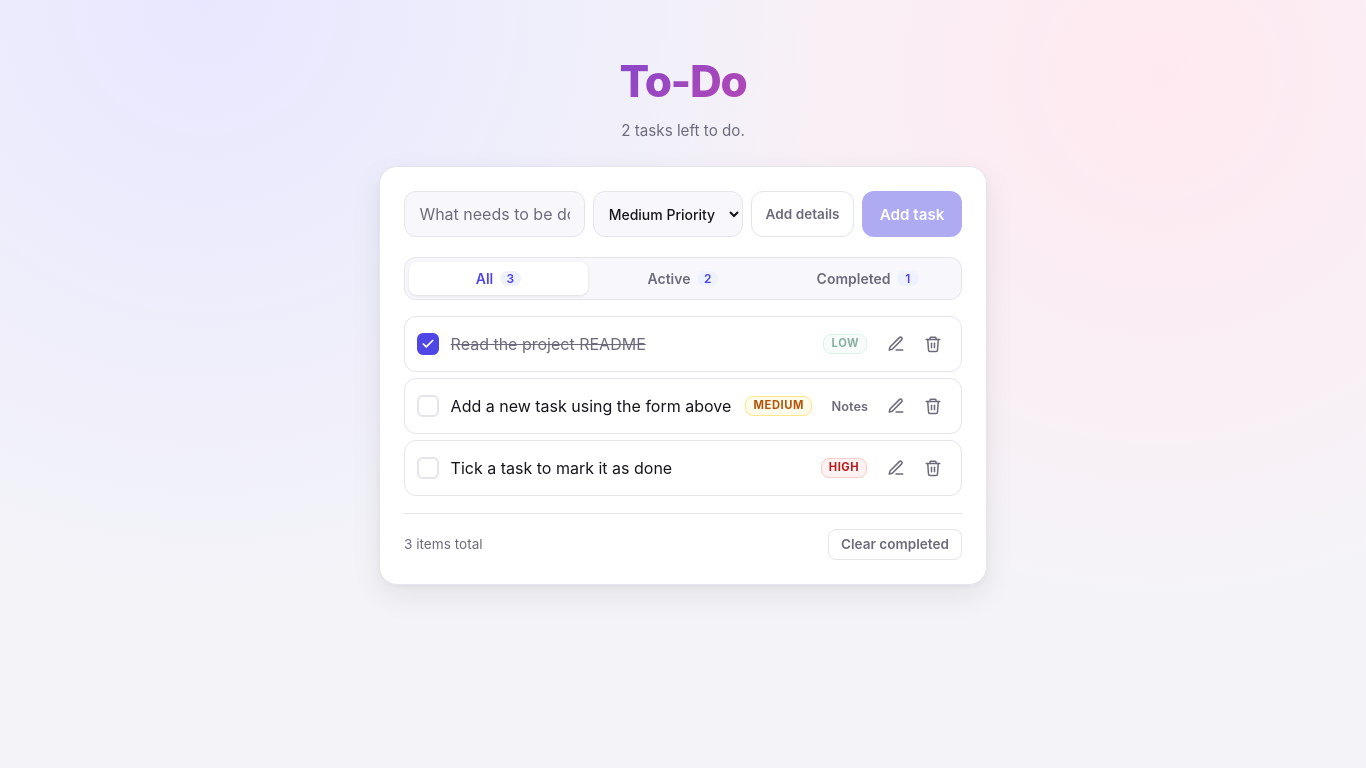
To-do app › dismisses the undo toast when clicking close
What coordinates should you click on to do the following:
click the button named "Delete task: Read the project README"
I would click on:
 (933, 344)
Its box is [916,328,949,361].
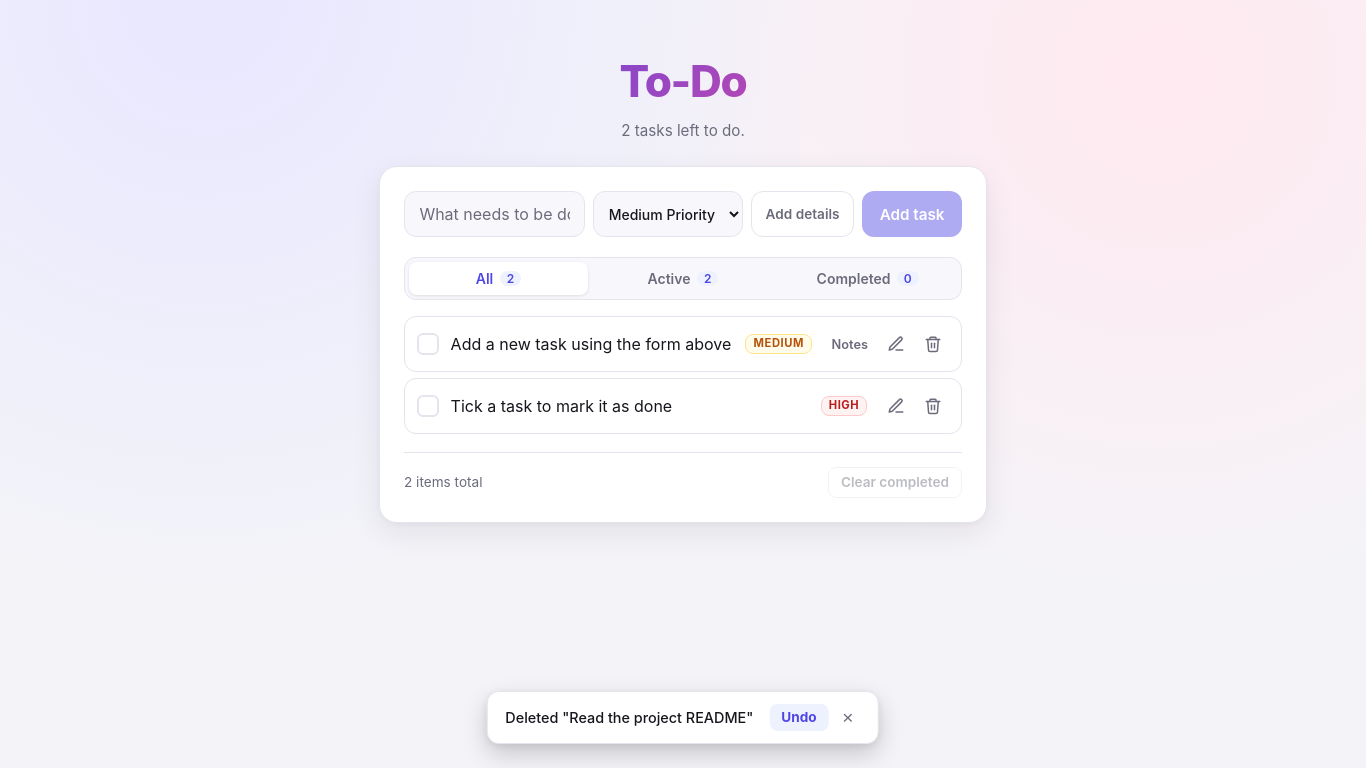
Expected: the message "Deleted \"Read the project README\" Undo ×" is shown, [487,691,879,744]
What coordinates should you click on to do the following:
click the button named "Dismiss notification"
I would click on:
 (848, 717)
Its box is [835,705,861,730].
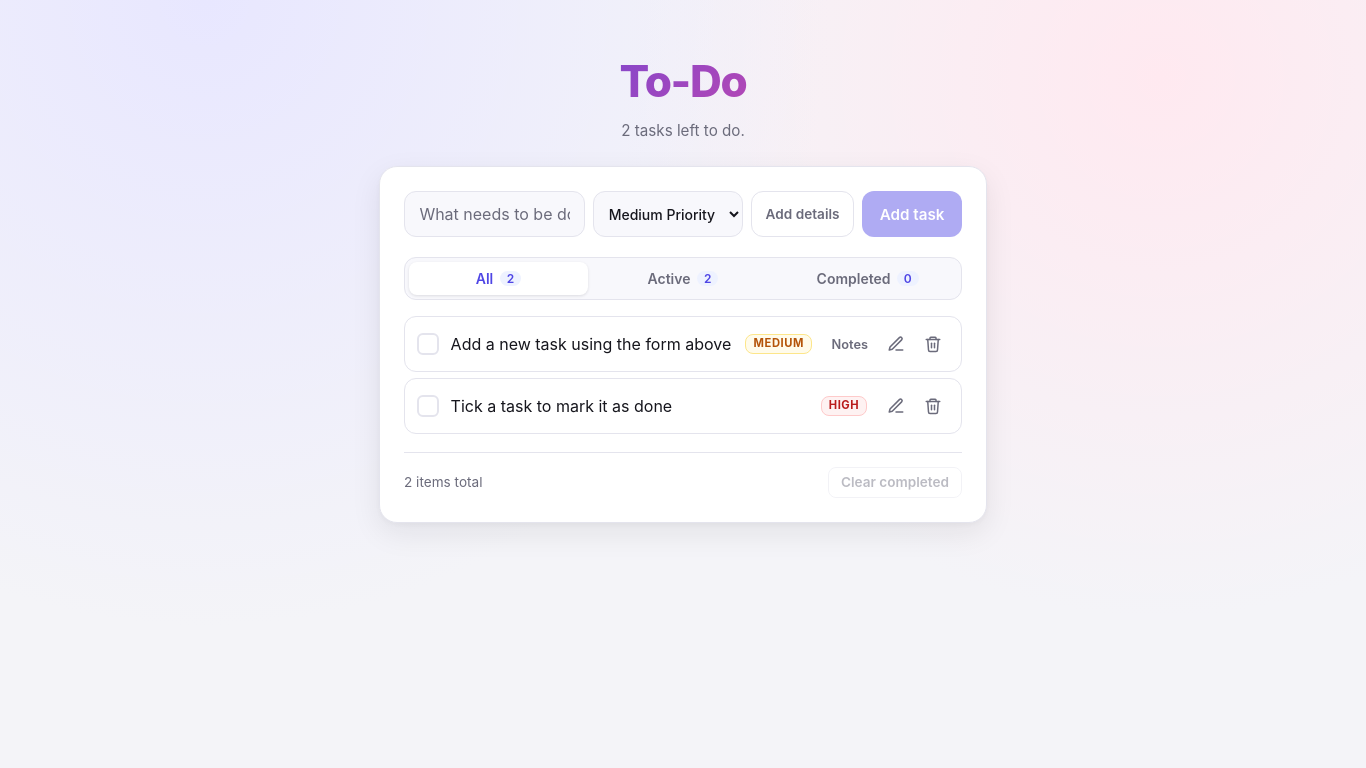
Expected: the message "Deleted \"Read the project README\" Undo ×" is gone
